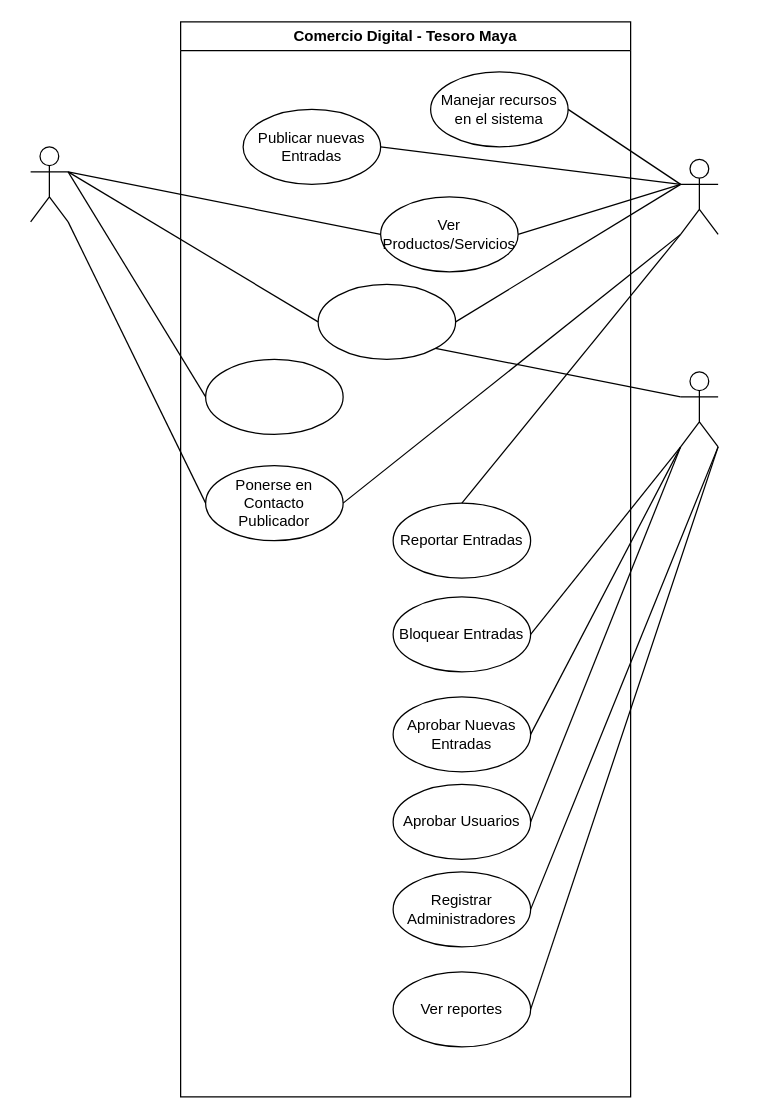
Image size: 766x1119. Some labels were removed from this diagram. Here are the shapes that lost their labels. From the top down, the centre of each, then its label:
At (48,184): "visitante".
At (698,196): "usuario".
At (386,321): "LogIn".
At (273,396): "Sign-In".
At (698,409): "administrador".
